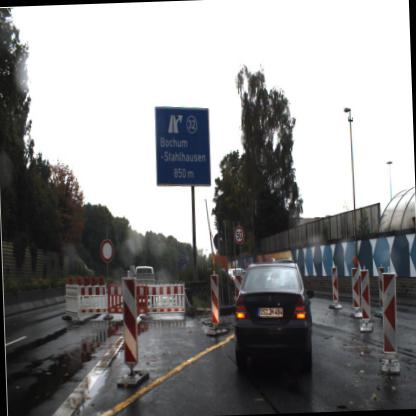prohibitory: (100, 236, 116, 266), (231, 223, 247, 247)
